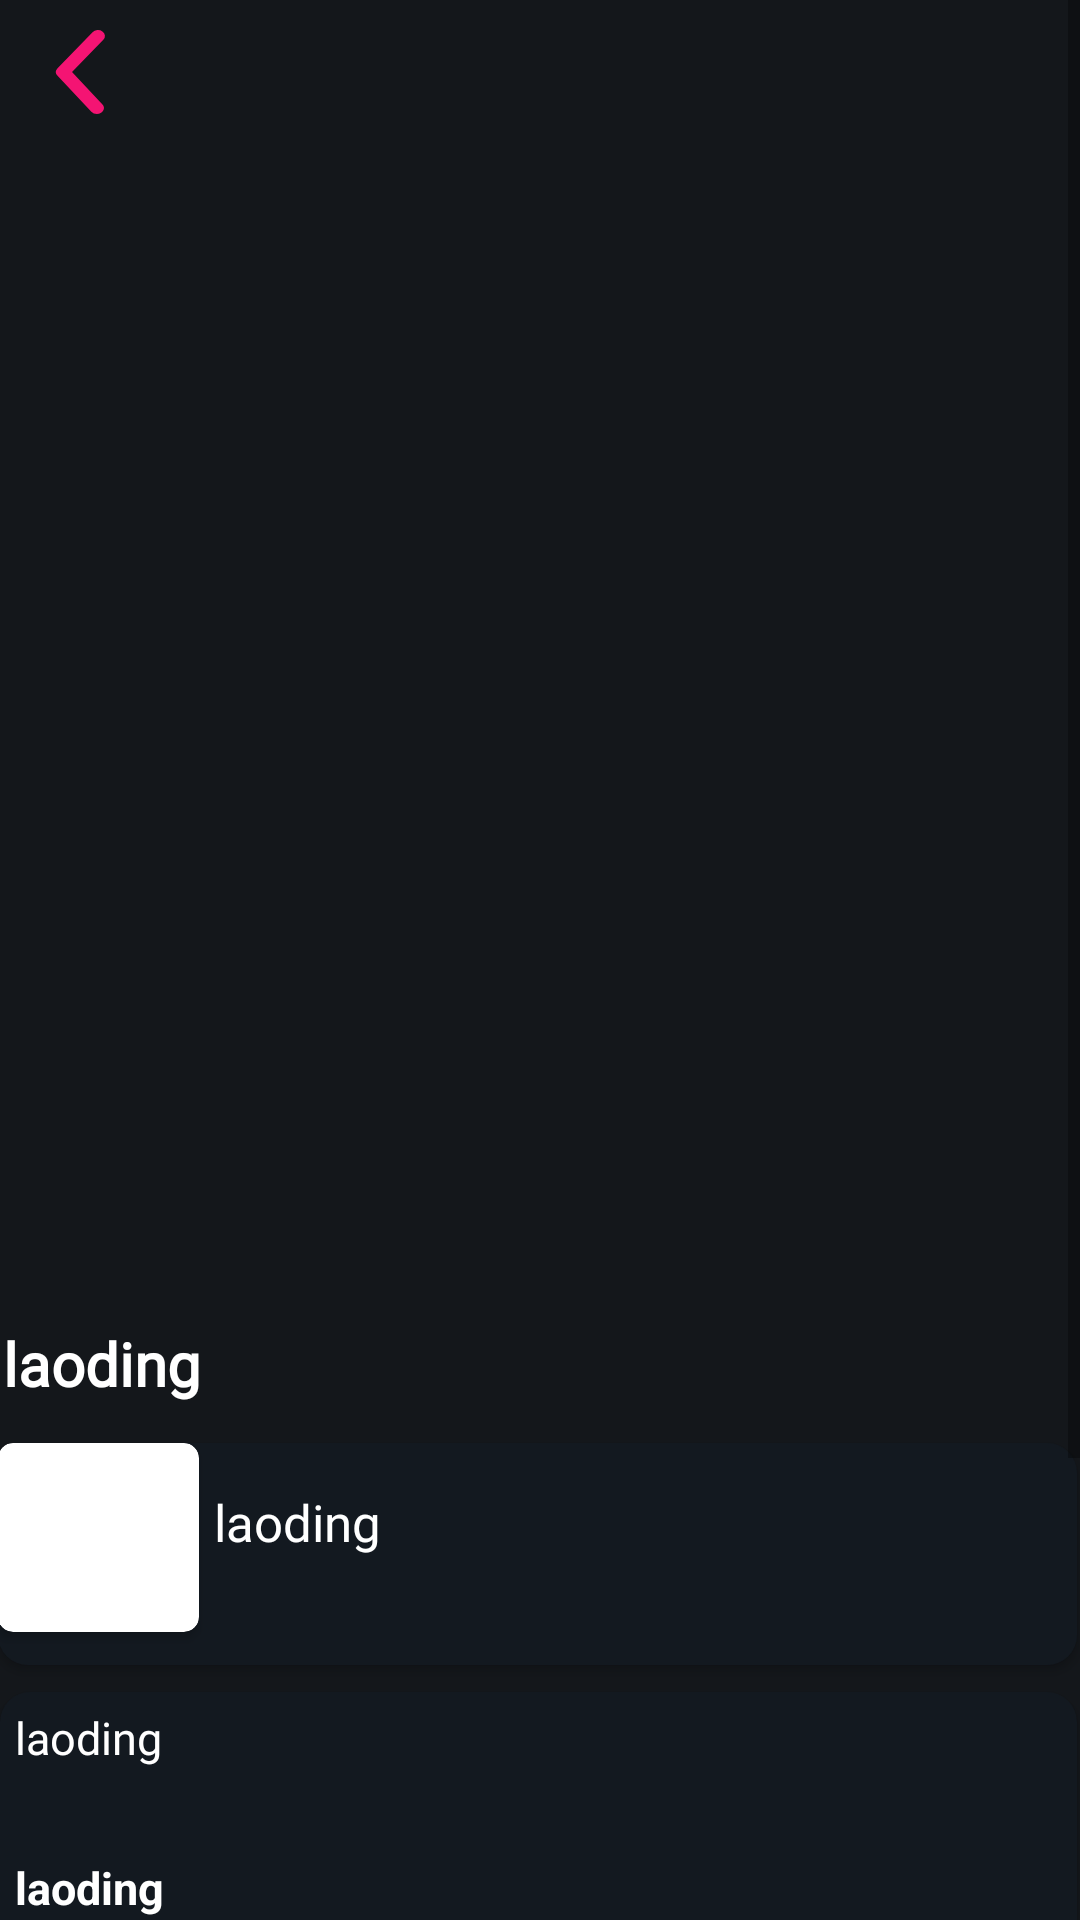

Screen size 1080*1920. Icon name, then its center in pixels as (x=x, y=y):
back arrow: (x=80, y=72)
